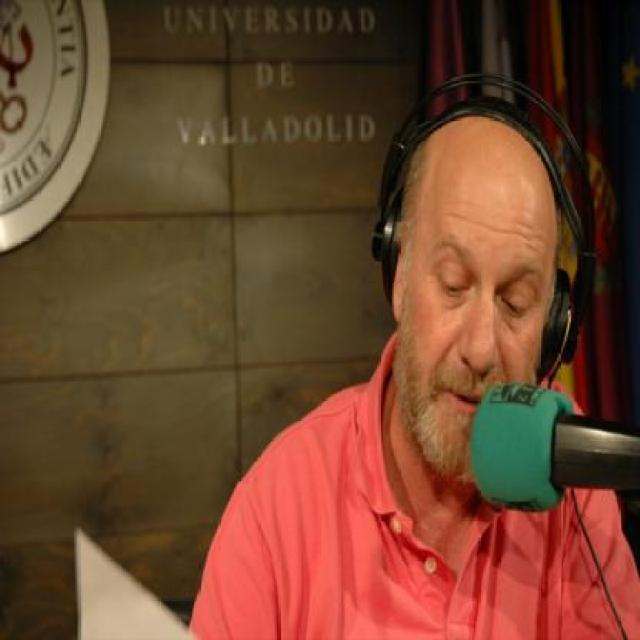earphone: (352, 55, 595, 345)
